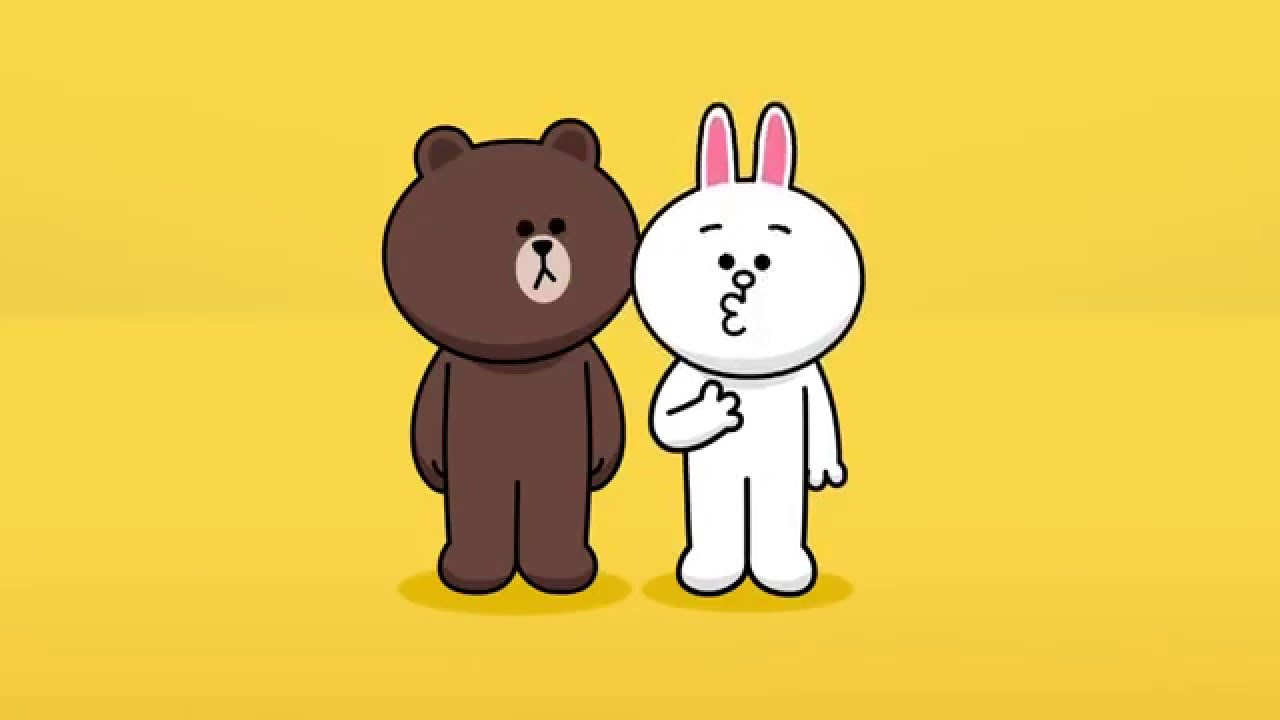line_brown: (375, 109, 648, 377)
